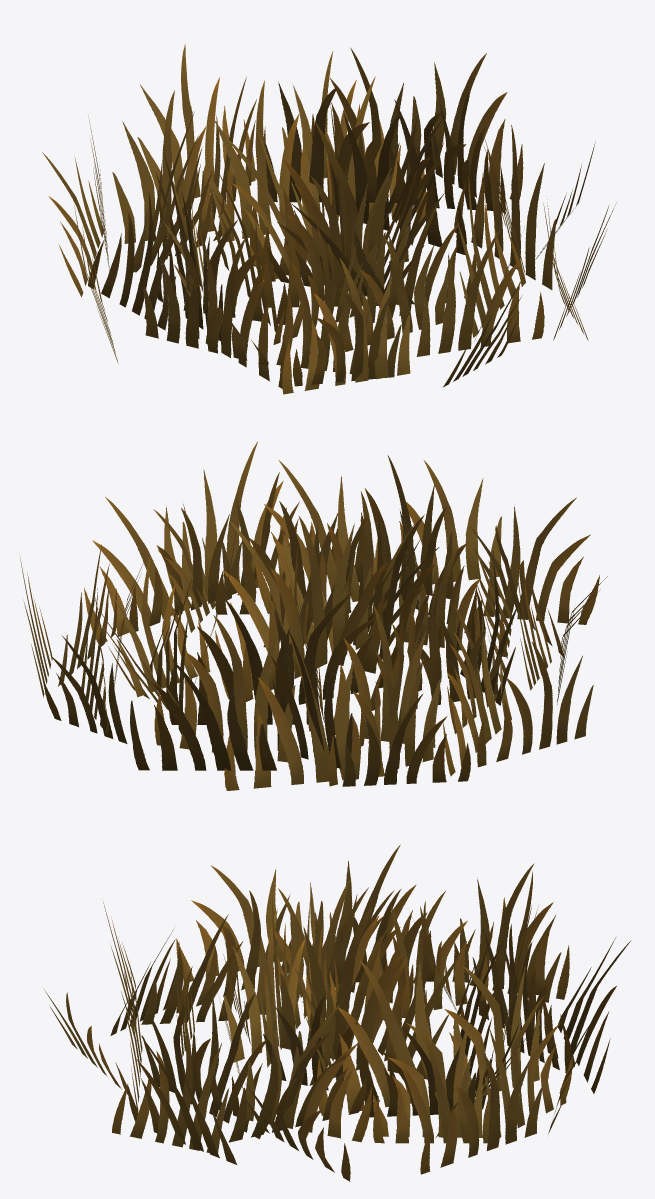
The model's file is FSS_grass_002.FBX.
3 renders of one model, top to bottom at view 1: azimuth 30°, elevation 25°; view 2: azimuth 150°, elevation 25°; view 3: azimuth 270°, elevation 25°, orthographic. The views are drawn at different scales.
Parts seen in each view (by area): view 1: FSS_grass_002; view 2: FSS_grass_002; view 3: FSS_grass_002.
Part boxes in pixels (x1,y1,x2,y2): FSS_grass_002: (42,44,616,394); FSS_grass_002: (19,441,607,790); FSS_grass_002: (43,844,631,1181).
Size of the model in its own units: 124 by 44.59 by 129.
